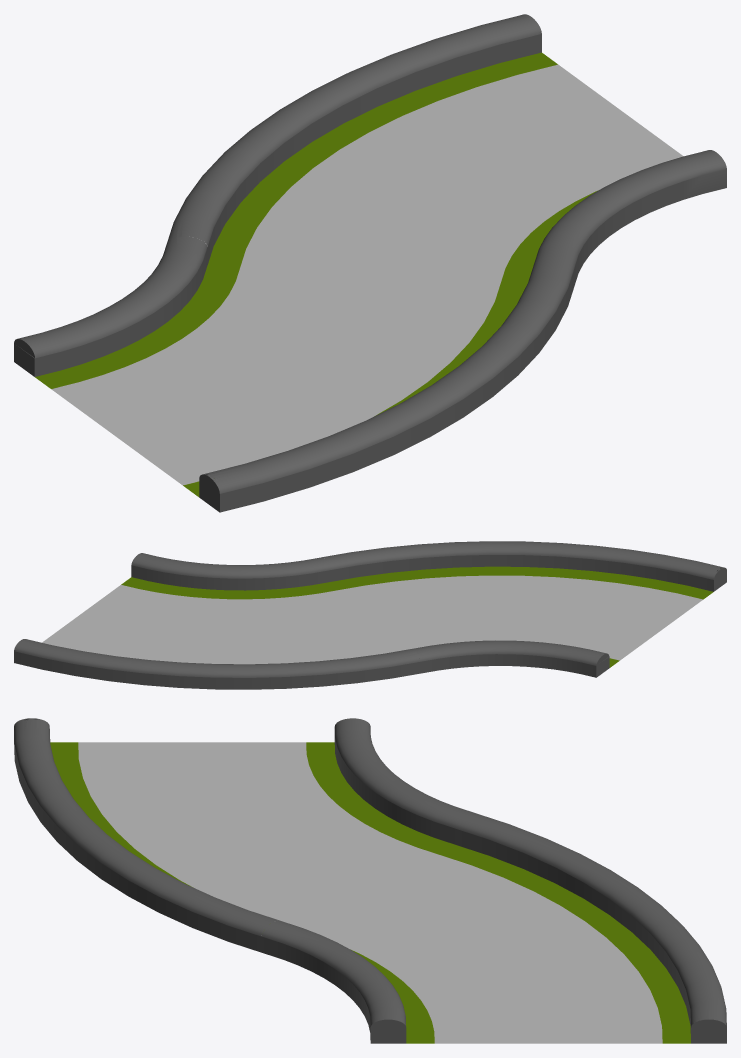
3 renders of one model, top to bottom at view 1: azimuth 30°, elevation 25°; view 2: azimuth 150°, elevation 25°; view 3: azimuth 270°, elevation 25°, orthographic. The views are drawn at different scales.
Visible parts, largest first — view 1: $ColladaAutoName$_0; view 2: $ColladaAutoName$_0; view 3: $ColladaAutoName$_0.
Part boxes in pixels (x1=…): $ColladaAutoName$_0: x1=14, y1=14, x2=726, y2=512; $ColladaAutoName$_0: x1=14, y1=541, x2=726, y2=689; $ColladaAutoName$_0: x1=14, y1=718, x2=726, y2=1043.
Bounding box in the file's own units: 2 × 0.0751 × 2.
